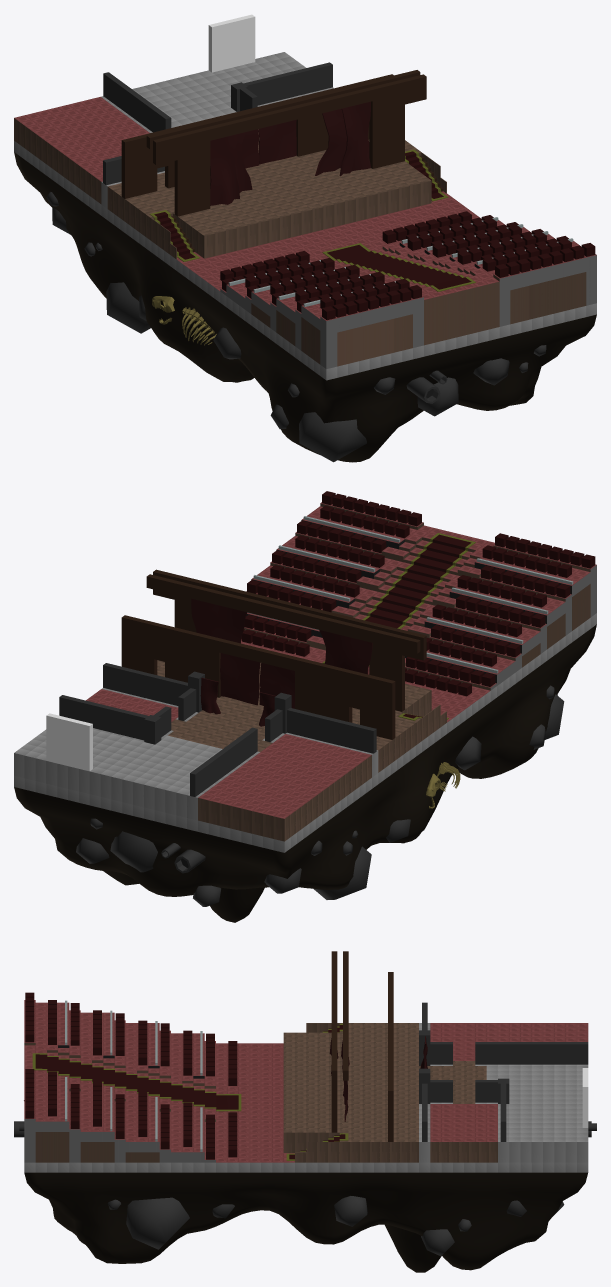
The model's file is Theatre Land Chunk Terrain.FBX.
The picture shows the model from 3 angles, top to bottom: view 1: azimuth 30°, elevation 25°; view 2: azimuth 150°, elevation 25°; view 3: azimuth 270°, elevation 25°; orthographic projection. The views are drawn at different scales.
Visible parts, largest first — view 1: Theatre Land Chunk, Main Seating, BackstageFloors, Temp Seats, FrontStage, WallStageFront, WallBackstage009, WallStageCentre, Main Carpet, BackstageDoor, Rock008, WallRailFront (+10 smaller); view 2: Theatre Land Chunk, BackstageFloors, Temp Seats, Main Seating, WallStageCentre, WallBackstage009, WallStageFront, Main Carpet, WallRailFront, Seating Rails, BackstageDoor, Front Right Curtain002 (+9 smaller); view 3: Theatre Land Chunk, BackstageFloors, Main Seating, Temp Seats, WallBackstage009, FrontStage, Main Carpet, Rock013, WallStageFront, Seating Rails, WallStageCentre, StairWall002 (+3 smaller).
Boxes of the visible parts, x1,y1,x2,y2 form: Theatre Land Chunk: [14, 141, 596, 462]; Main Seating: [220, 220, 596, 368]; BackstageFloors: [14, 52, 421, 240]; Temp Seats: [220, 211, 595, 320]; FrontStage: [173, 161, 431, 258]; WallStageFront: [153, 74, 426, 216]; WallBackstage009: [103, 62, 332, 185]; WallStageCentre: [121, 74, 393, 198]; Main Carpet: [322, 243, 475, 291]; BackstageDoor: [208, 14, 255, 72]; Rock008: [299, 412, 366, 462]; WallRailFront: [146, 70, 420, 149]; Theatre Land Chunk: [14, 613, 596, 922]; BackstageFloors: [14, 660, 421, 841]; Temp Seats: [241, 491, 595, 696]; Main Seating: [244, 502, 596, 690]; WallStageCentre: [121, 615, 395, 739]; WallBackstage009: [59, 663, 376, 796]; WallStageFront: [153, 569, 426, 711]; Main Carpet: [322, 533, 475, 665]; WallRailFront: [146, 574, 420, 653]; Seating Rails: [247, 516, 573, 673]; BackstageDoor: [46, 713, 92, 771]; Front Right Curtain002: [220, 653, 260, 705]; Theatre Land Chunk: [24, 1043, 588, 1272]; BackstageFloors: [340, 1023, 588, 1162]; Main Seating: [24, 1000, 215, 1162]; Temp Seats: [25, 992, 237, 1159]; WallBackstage009: [419, 1002, 588, 1141]; FrontStage: [283, 1032, 339, 1152]; Main Carpet: [32, 1053, 241, 1111]; Rock013: [126, 1197, 189, 1249]; WallStageFront: [331, 951, 337, 1132]; Seating Rails: [65, 1000, 202, 1151]; WallStageCentre: [388, 972, 393, 1141]; StairWall002: [295, 1142, 339, 1162].
Size of the model in its own units: 26.37 by 25.02 by 51.69.
Materials: 29 (18 with a texture image).
